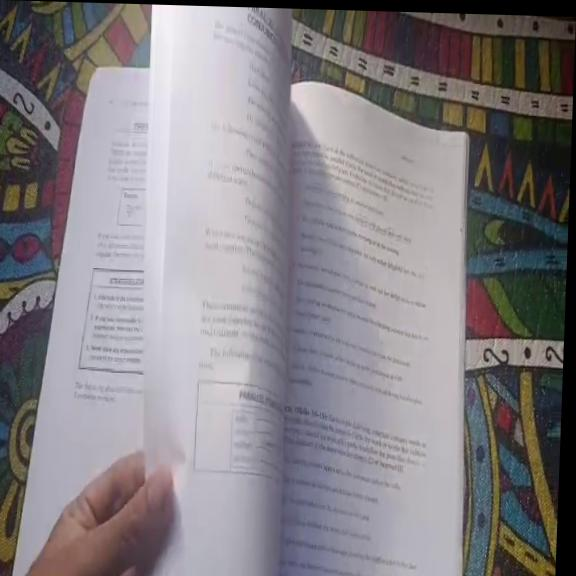Kertas: (280, 83, 467, 575), (145, 5, 291, 575), (14, 63, 163, 576), (13, 69, 149, 575)
